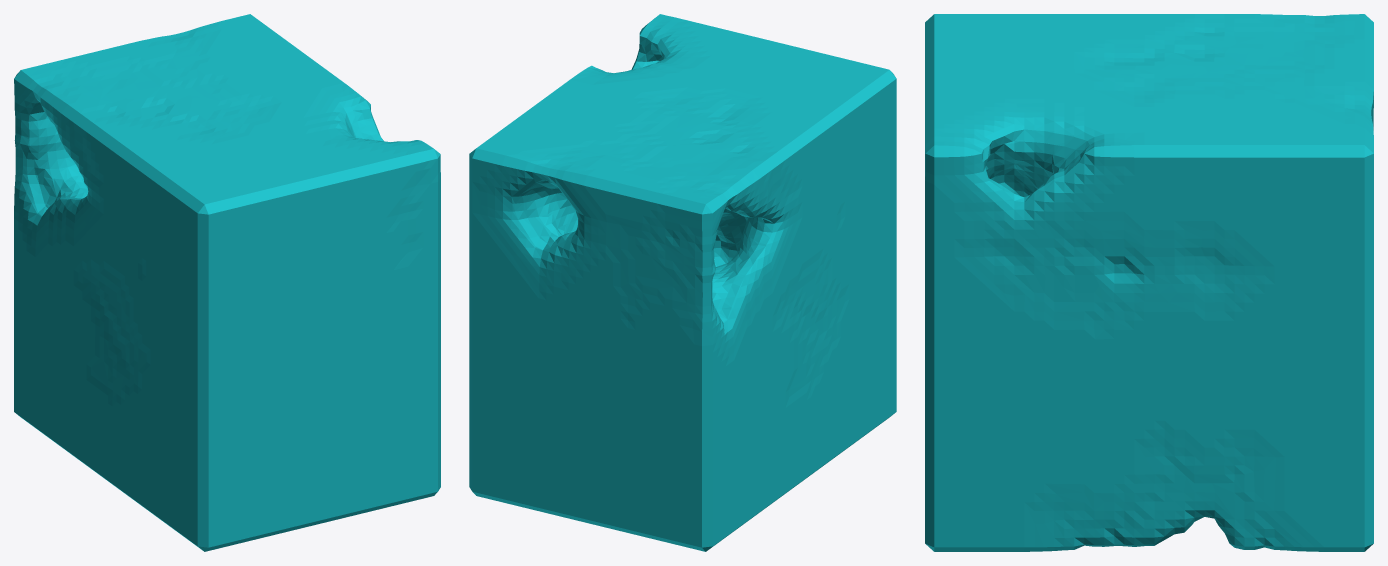
3 renders of one model, left to right at view 1: azimuth 30°, elevation 25°; view 2: azimuth 150°, elevation 25°; view 3: azimuth 270°, elevation 25°, orthographic. The views are drawn at different scales.
Visible parts, largest first — view 1: Liquid_Domain; view 2: Liquid_Domain; view 3: Liquid_Domain.
Part boxes in pixels (bbox=[...]): Liquid_Domain: bbox=[14, 14, 440, 551]; Liquid_Domain: bbox=[469, 14, 896, 551]; Liquid_Domain: bbox=[925, 14, 1373, 551].
Size of the model in its own units: 79.09 by 108 by 108.
